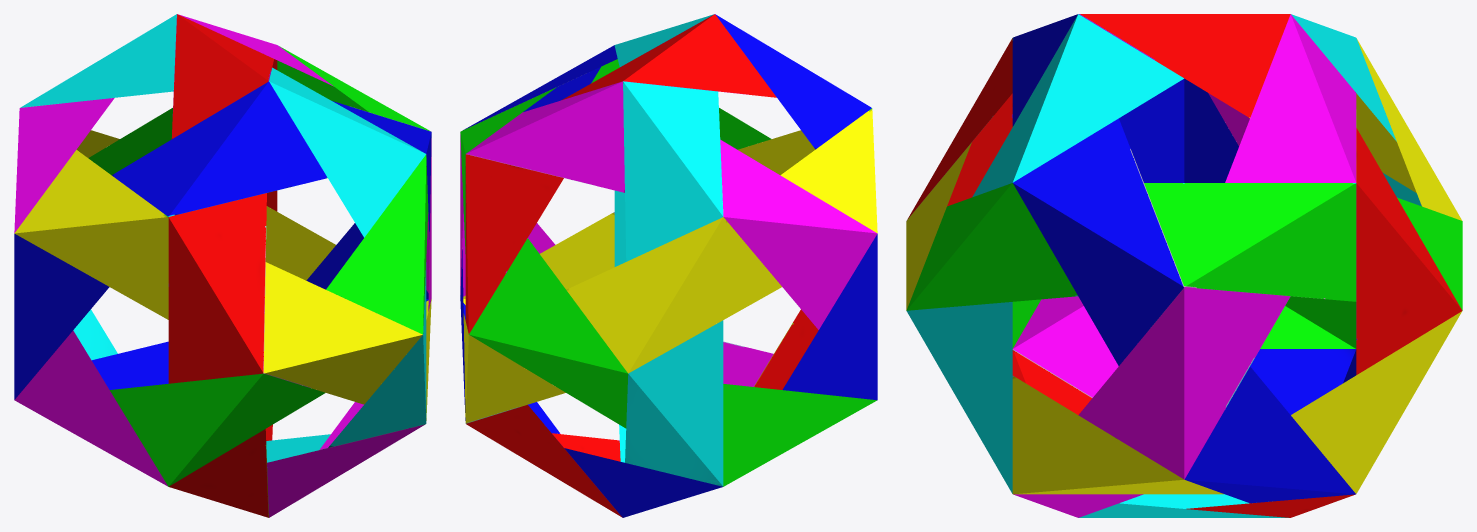
File: origami.obj
The picture shows the model from 3 angles, left to right: view 1: azimuth 30°, elevation 25°; view 2: azimuth 150°, elevation 25°; view 3: azimuth 270°, elevation 25°; orthographic projection. The views are drawn at different scales.
Parts seen in each view (by area): view 1: arnaerts, arnaerts.001; view 2: arnaerts, arnaerts.001; view 3: arnaerts, arnaerts.001.
Boxes of the visible parts, left/top/right/bottom form: arnaerts: left=14, top=14, right=431, bottom=517; arnaerts.001: left=14, top=14, right=431, bottom=517; arnaerts: left=460, top=14, right=877, bottom=517; arnaerts.001: left=460, top=14, right=877, bottom=516; arnaerts: left=906, top=14, right=1462, bottom=517; arnaerts.001: left=906, top=14, right=1462, bottom=517.
Size of the model in its own units: 3.24 by 3.24 by 3.24.
